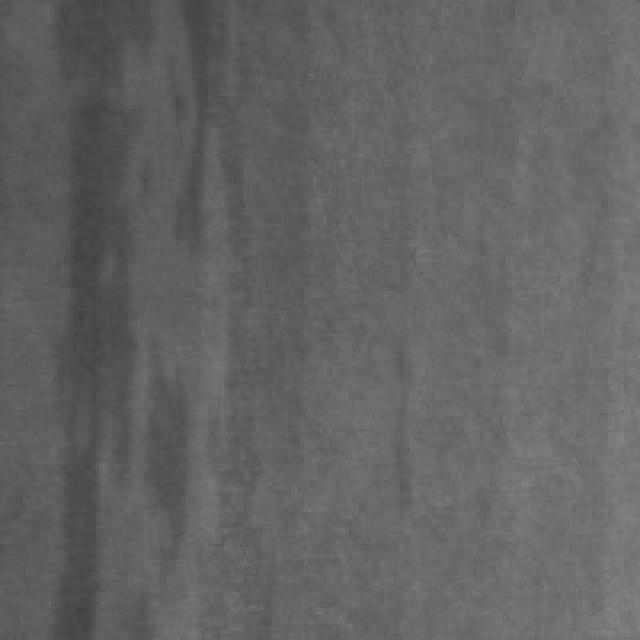inclusion: (44, 0, 195, 630), (157, 0, 230, 259), (371, 336, 426, 518)
